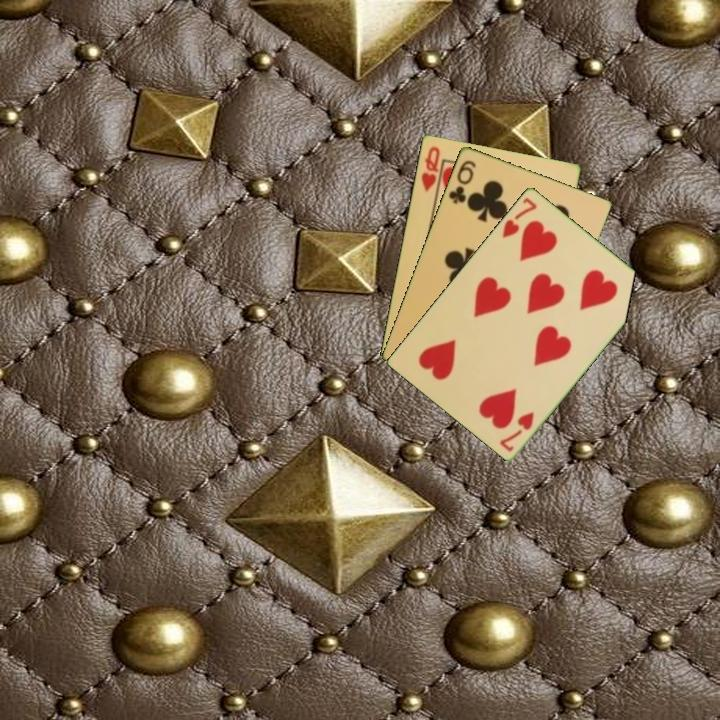6c: (445, 156, 479, 207)
7h: (499, 193, 540, 240), (496, 408, 537, 454)
Qh: (417, 142, 442, 195)
